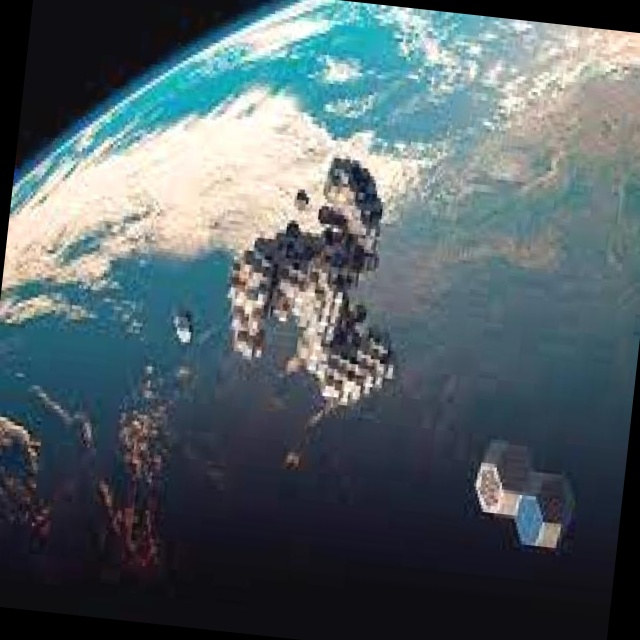large_debris: (214, 144, 429, 438), (427, 413, 610, 587), (157, 298, 210, 358)
